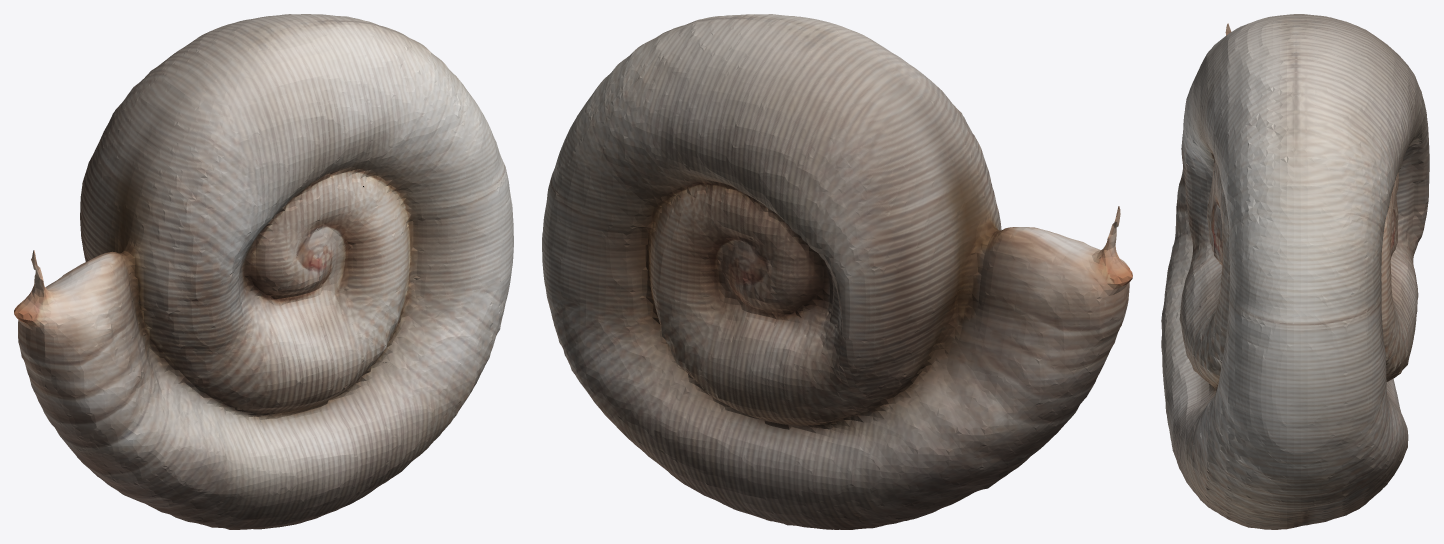
The model's file is doodle.glb.
The picture shows the model from 3 angles, left to right: view 1: azimuth 30°, elevation 25°; view 2: azimuth 150°, elevation 25°; view 3: azimuth 270°, elevation 25°; orthographic projection. The views are drawn at different scales.
Visible parts, largest first — view 1: input.obj; view 2: input.obj; view 3: input.obj.
Part boxes in pixels (bbox=[...]): input.obj: bbox=[14, 14, 513, 529]; input.obj: bbox=[542, 14, 1132, 529]; input.obj: bbox=[1161, 14, 1429, 529].
Bounding box in the file's own units: 1.15 × 1 × 0.5065.
1 material, 1 textured.
